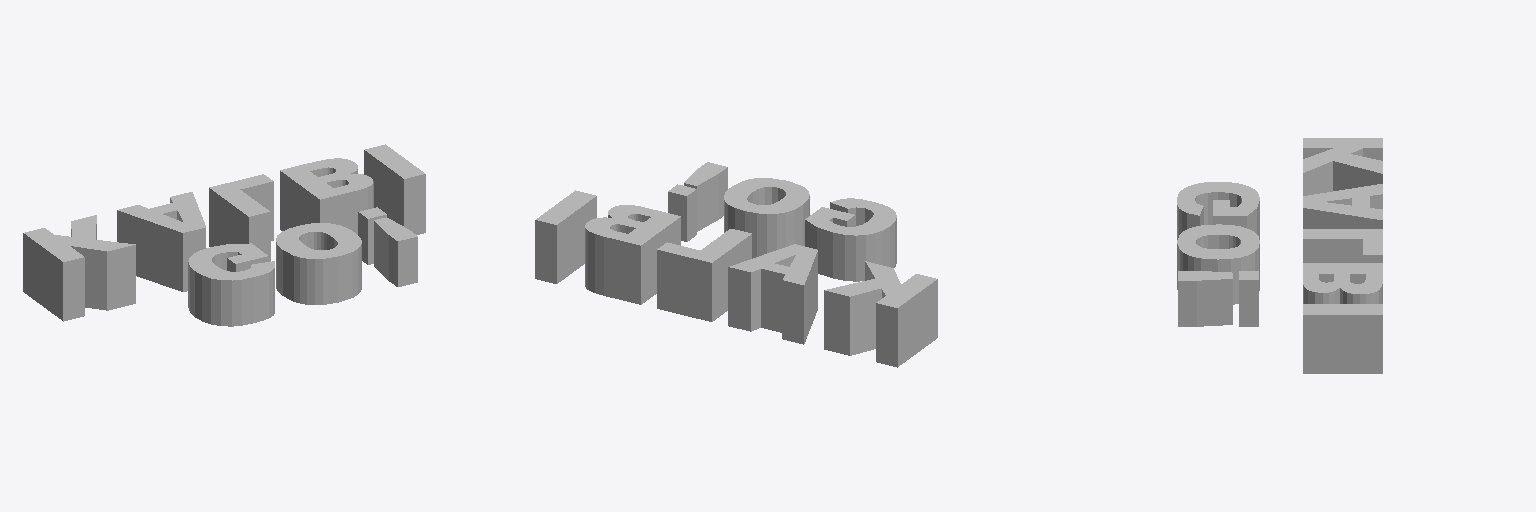
Rendered from gokalbi.obj.
3 renders of one model, left to right at view 1: azimuth 30°, elevation 25°; view 2: azimuth 150°, elevation 25°; view 3: azimuth 270°, elevation 25°, orthographic.
Visible parts, largest first — view 1: obj_0; view 2: obj_0; view 3: obj_0.
Part boxes in pixels (x1,y1,x2,y2): obj_0: (23,144,425,326); obj_0: (535,162,937,367); obj_0: (1177,138,1382,373).
Size of the model in its own units: 57.58 by 9 by 28.37.